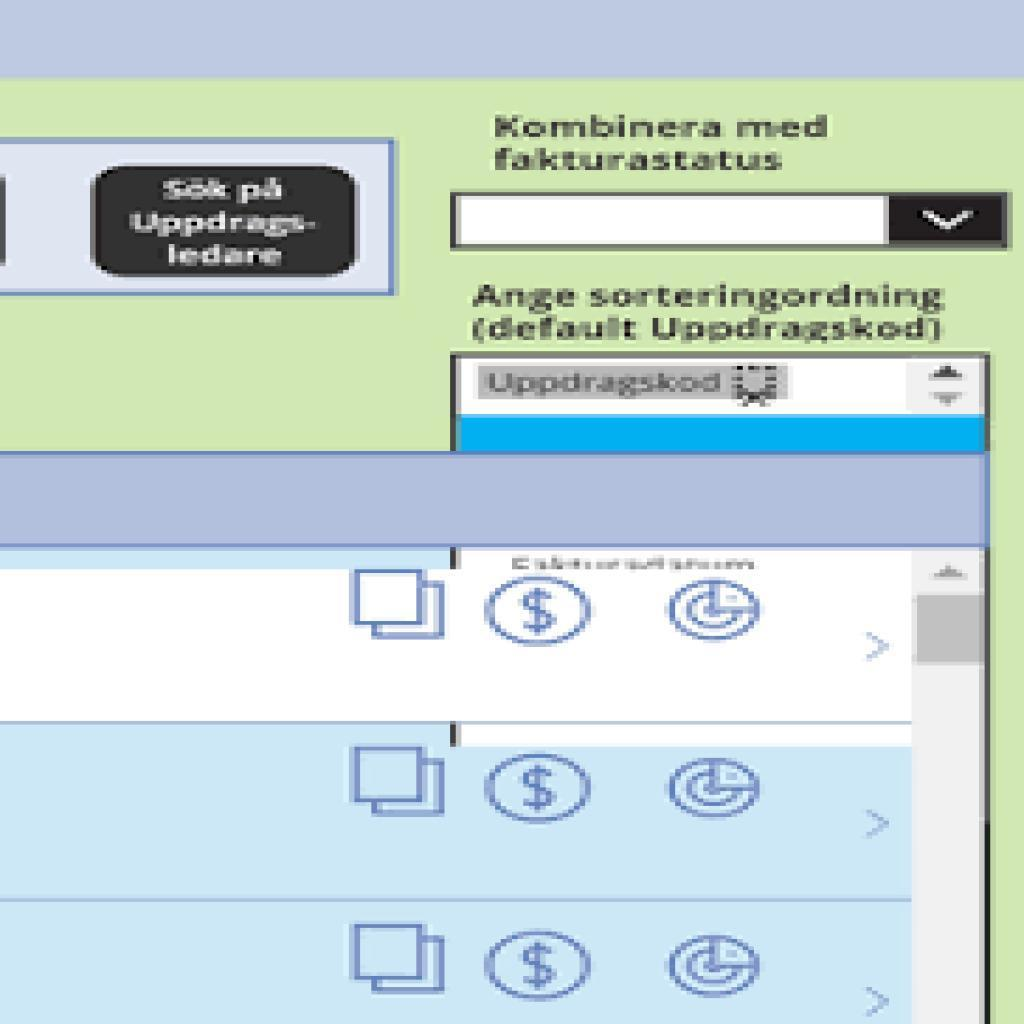button: (94, 165, 357, 282)
dropdown: (451, 191, 1011, 252)
